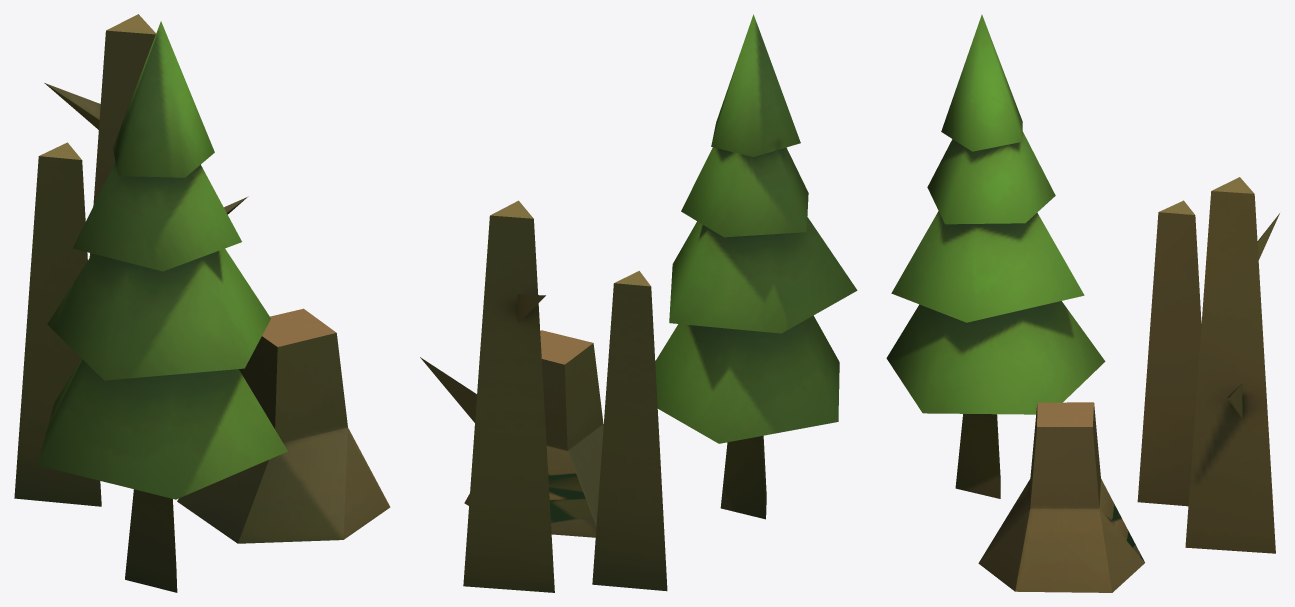
The model's file is Sce_worldmap_tree_b06.FBX.
3 views of the same model, side by side, from view 1: azimuth 30°, elevation 25°; view 2: azimuth 150°, elevation 25°; view 3: azimuth 270°, elevation 25° (orthographic). The views are drawn at different scales.
Parts seen in each view (by area): view 1: Sce_worldmap_tree_b06; view 2: Sce_worldmap_tree_b06; view 3: Sce_worldmap_tree_b06.
Part boxes in pixels (<box>): Sce_worldmap_tree_b06: <box>14,14,390,592</box>; Sce_worldmap_tree_b06: <box>420,14,857,592</box>; Sce_worldmap_tree_b06: <box>886,14,1279,592</box>.
Bounding box in the file's own units: 73.64 × 109 × 82.09.
